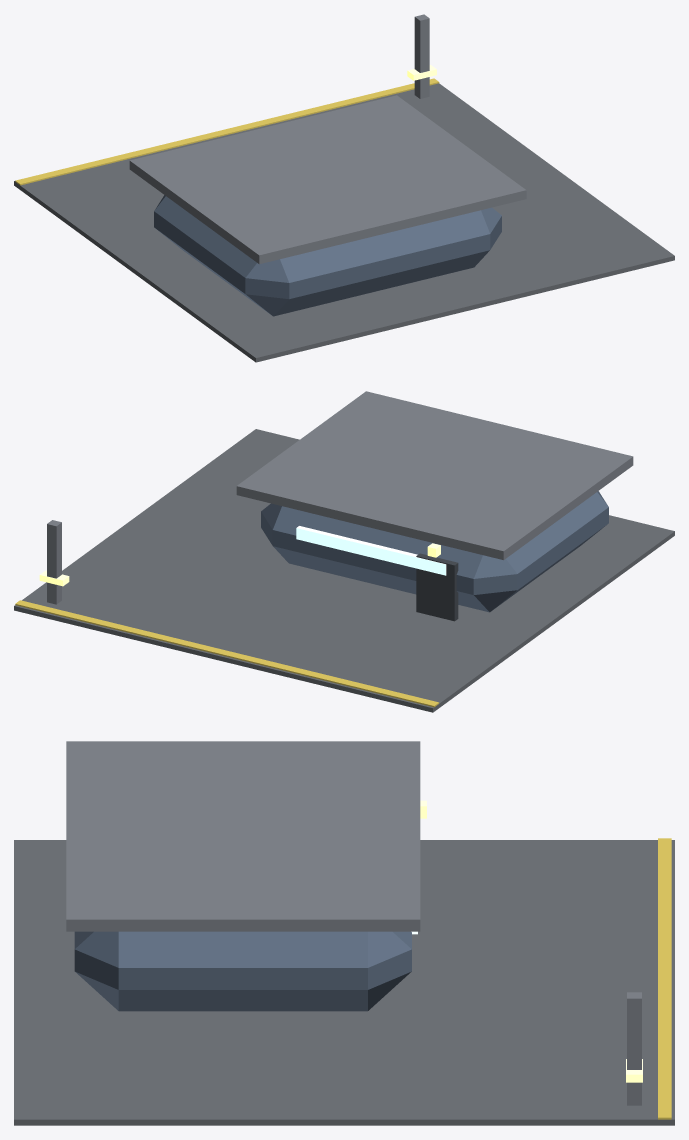
File: zone_low_2_t1.glb
The picture shows the model from 3 angles, top to bottom: view 1: azimuth 30°, elevation 25°; view 2: azimuth 150°, elevation 25°; view 3: azimuth 270°, elevation 25°; orthographic projection. The views are drawn at different scales.
Visible parts, largest first — view 1: zone_low_2_t1, detail; view 2: zone_low_2_t1, detail; view 3: zone_low_2_t1, detail.
Part boxes in pixels (left/top/right/bottom): zone_low_2_t1: left=14, top=83, right=674, bottom=362; detail: left=15, top=14, right=439, bottom=185; zone_low_2_t1: left=14, top=391, right=674, bottom=712; detail: left=15, top=520, right=440, bottom=707; zone_low_2_t1: left=14, top=741, right=674, bottom=1125; detail: left=420, top=800, right=671, bottom=1119.
Bounding box in the file's own units: 19.6 × 3.92 × 19.6.
